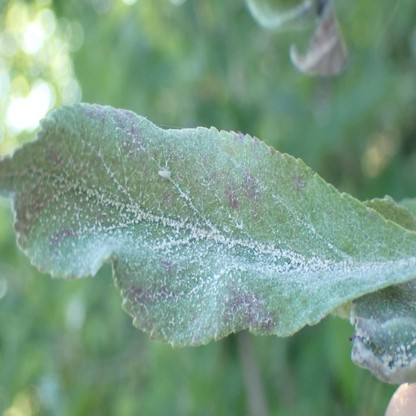powdery_mildew: (1, 104, 411, 347), (352, 282, 416, 381)
